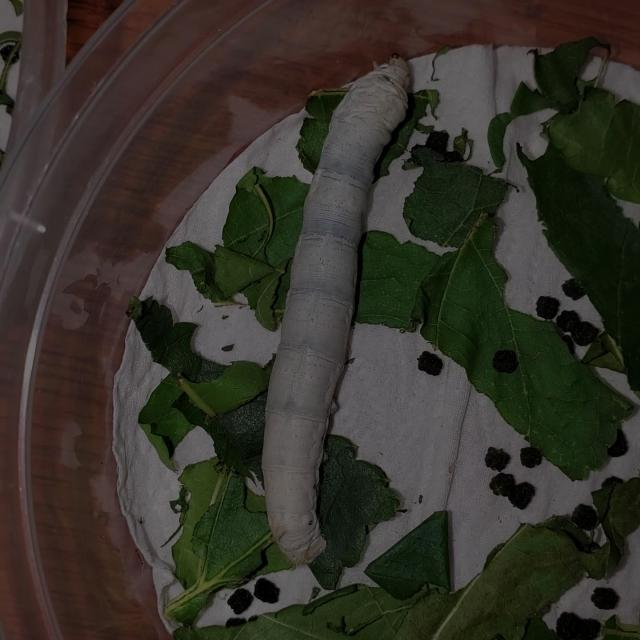Healthy: (246, 45, 416, 581)
